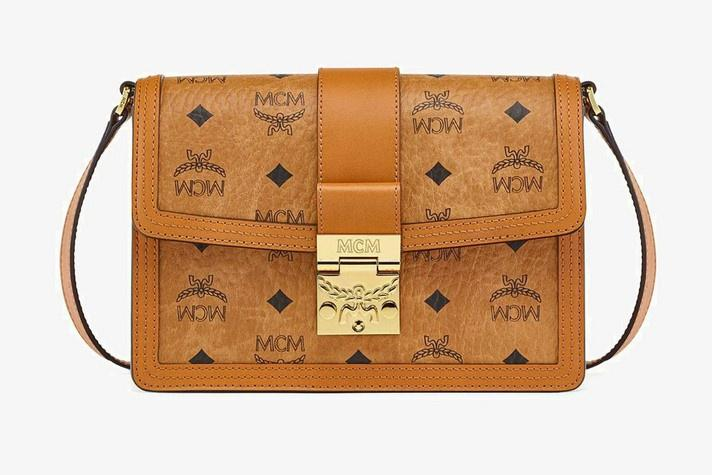MCM: (133, 70, 589, 394)
